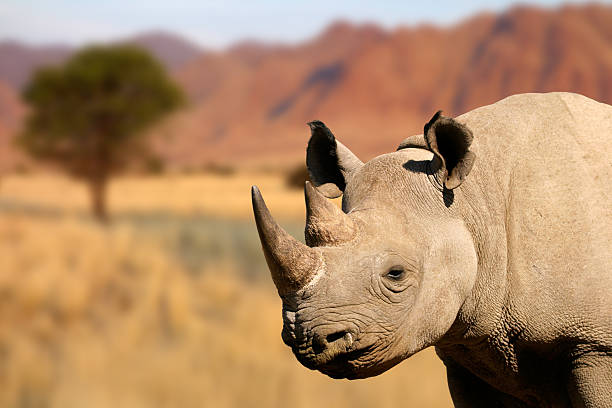rhino: (185, 67, 542, 392)
